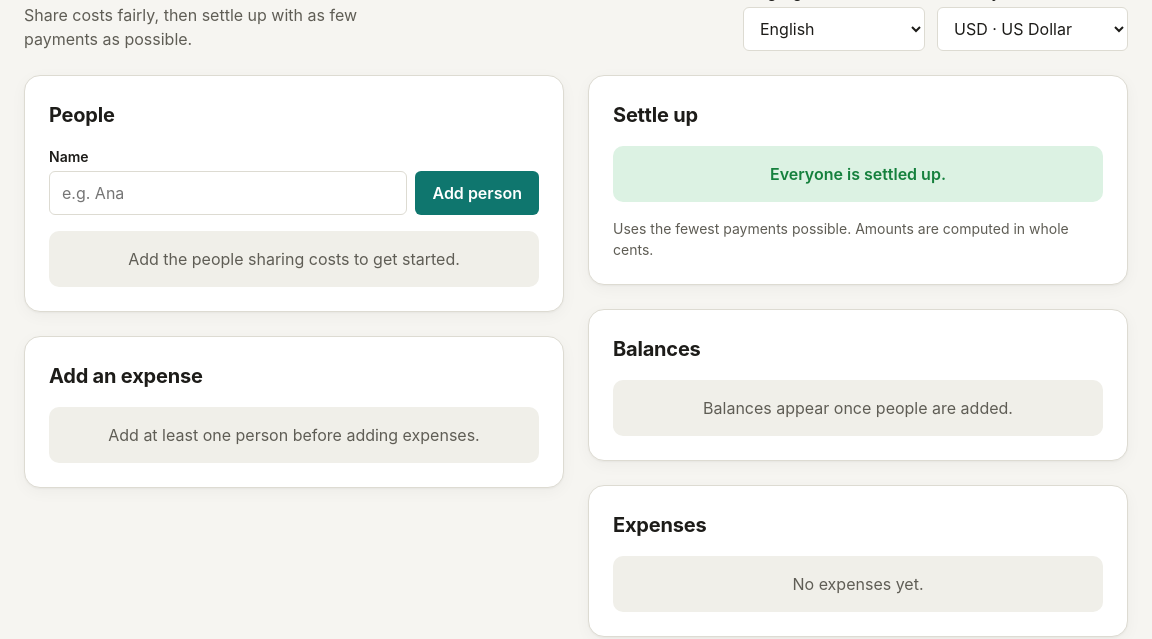
Test: App › starts over after confirmation
Step 1. Type "Ana" into the field labelled "Name" → (228, 193), box top-left (49, 171), bottom-right (408, 215)
Then press Enter
(page scrolled)
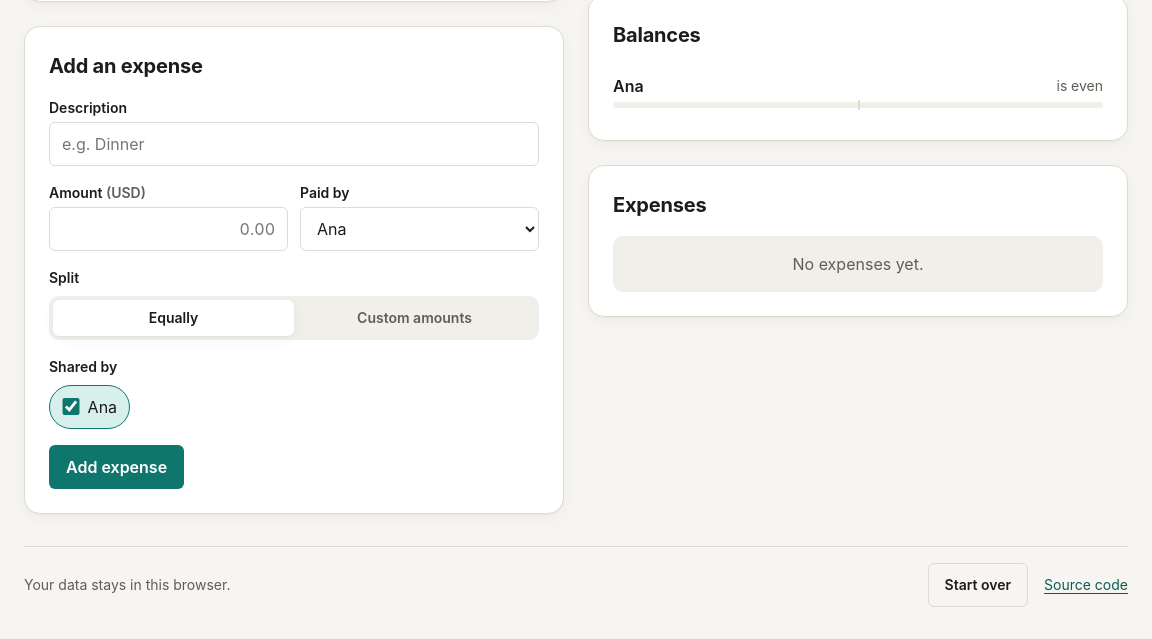
Step 2. Click the button "Start over" → (978, 585), box top-left (928, 563), bottom-right (1028, 607)
(page scrolled)
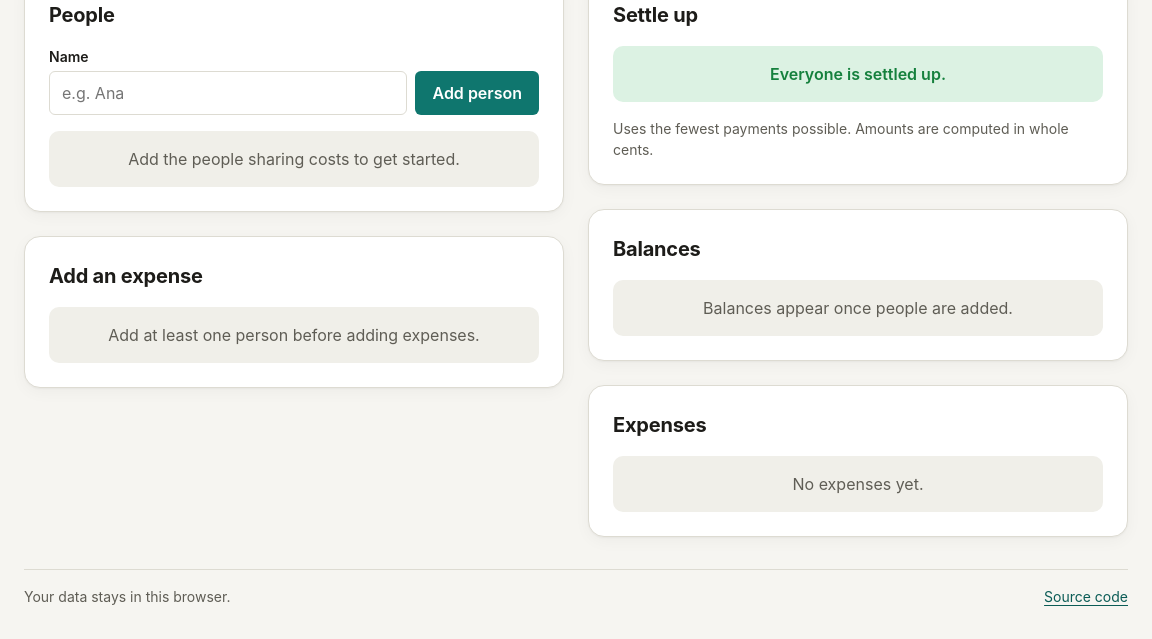
Expected: the text "Add the people sharing costs to get started." is shown, top-left (49, 131), bottom-right (539, 187)
